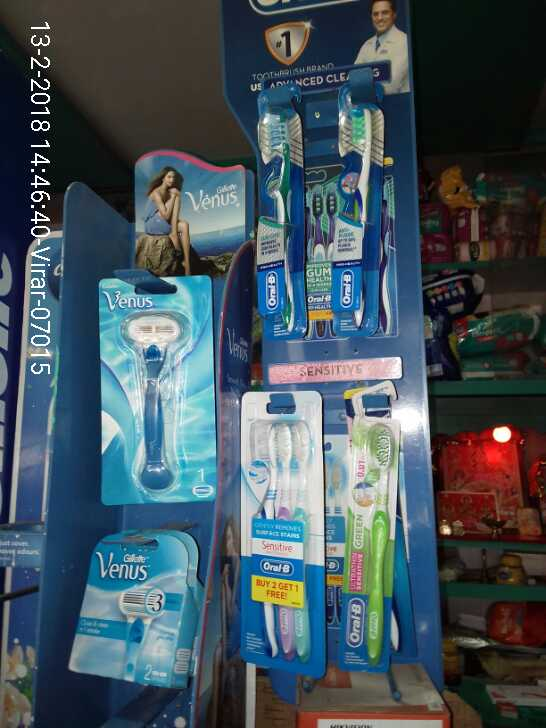beauty: (92, 266, 222, 500), (73, 532, 189, 684)
pharmacy: (231, 390, 331, 674), (340, 412, 397, 674), (328, 94, 387, 336), (253, 99, 290, 329)
